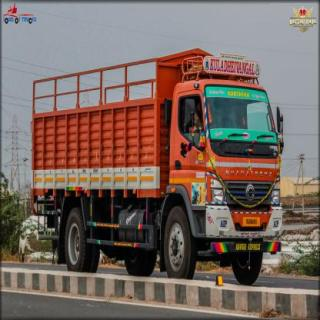Normal_vehicle: (30, 46, 286, 291)
